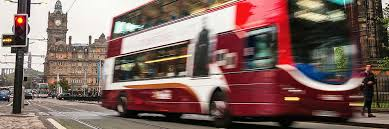bus: (100, 1, 362, 125)
